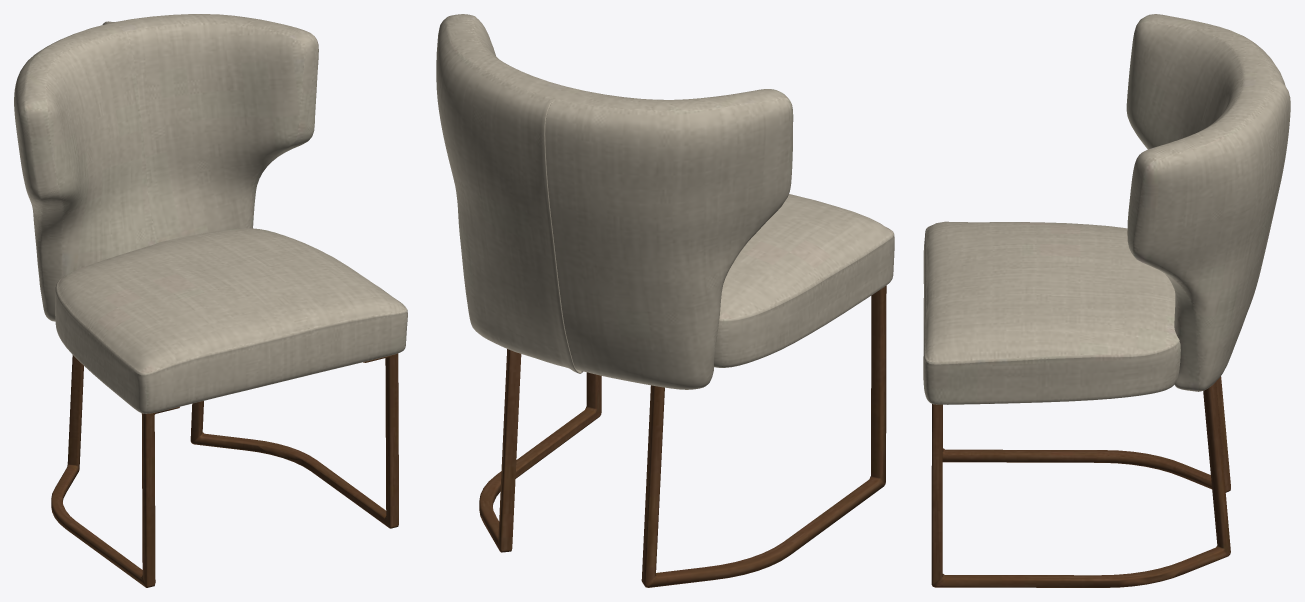
3 views of the same model, side by side, from view 1: azimuth 30°, elevation 25°; view 2: azimuth 150°, elevation 25°; view 3: azimuth 270°, elevation 25° (orthographic). The views are drawn at different scales.
Visible parts, largest first — view 1: RootNode; view 2: RootNode; view 3: RootNode.
Part boxes in pixels (bbox=[...]): RootNode: bbox=[14, 14, 407, 587]; RootNode: bbox=[436, 14, 894, 587]; RootNode: bbox=[923, 14, 1290, 587].
Bounding box in the file's own units: 0.6208 × 0.838 × 0.6277.
1 material, 1 textured.
